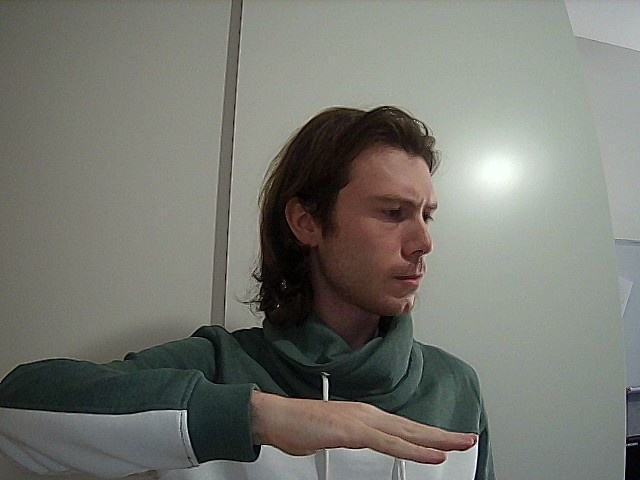space: (1, 356, 506, 467)
